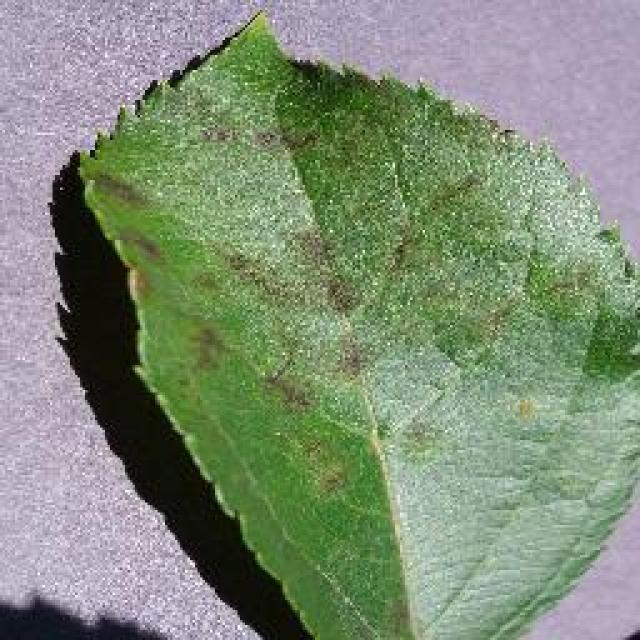apple scab disease: (72, 8, 638, 638)
